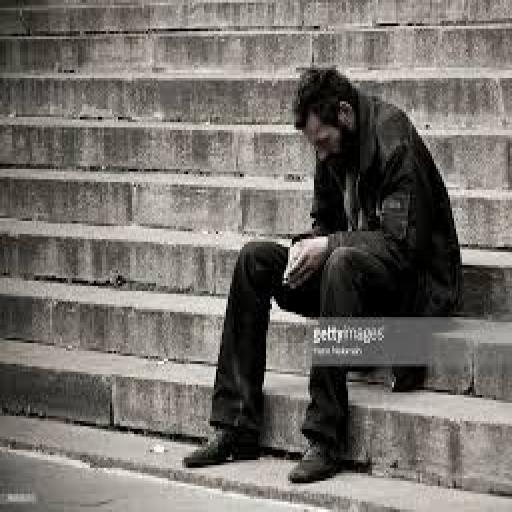sitting: (180, 60, 464, 486)
